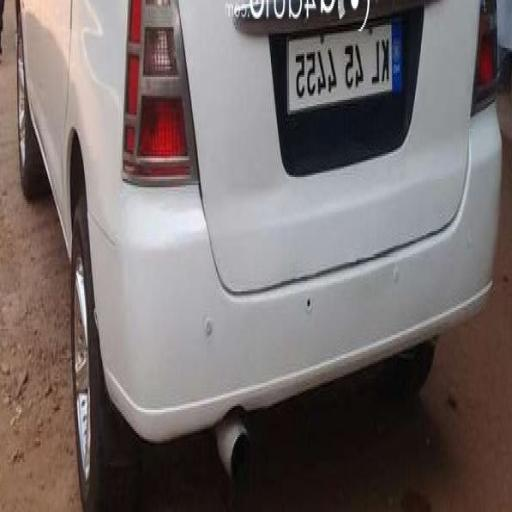License: (295, 14, 401, 118)
